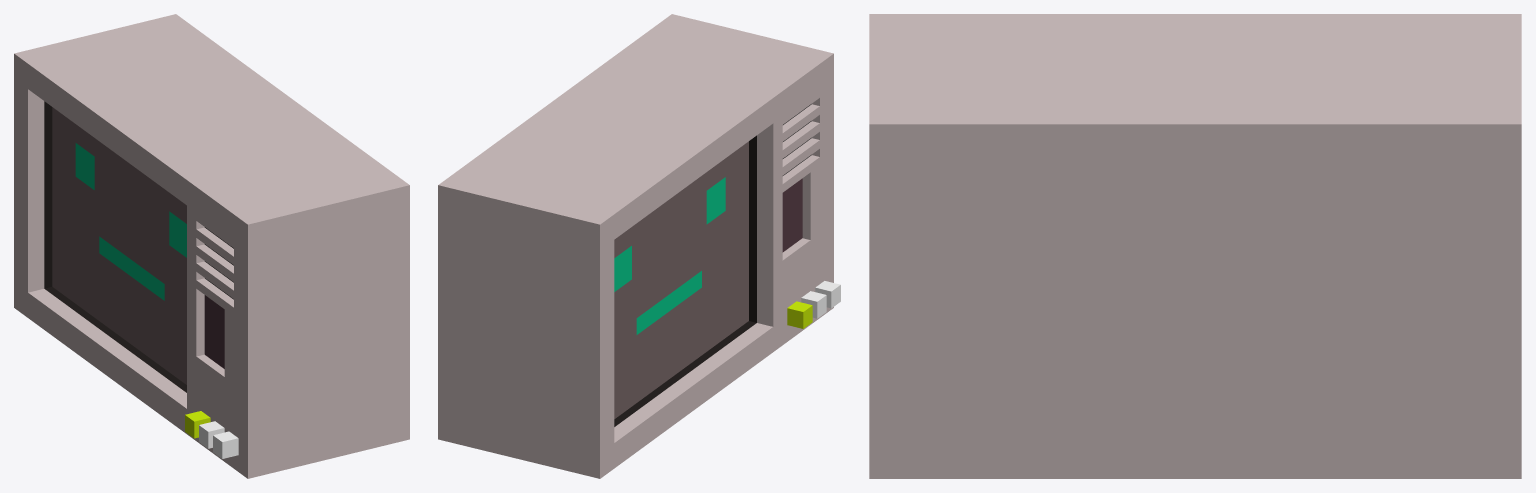
The model's file is main.obj.
The picture shows the model from 3 angles, left to right: view 1: azimuth 30°, elevation 25°; view 2: azimuth 150°, elevation 25°; view 3: azimuth 270°, elevation 25°; orthographic projection. The views are drawn at different scales.
Bounding box in the file's own units: 2.2 × 3 × 5.
Materials: 1 (1 with a texture image).
